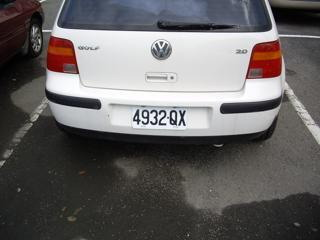plate: (130, 104, 189, 131)
